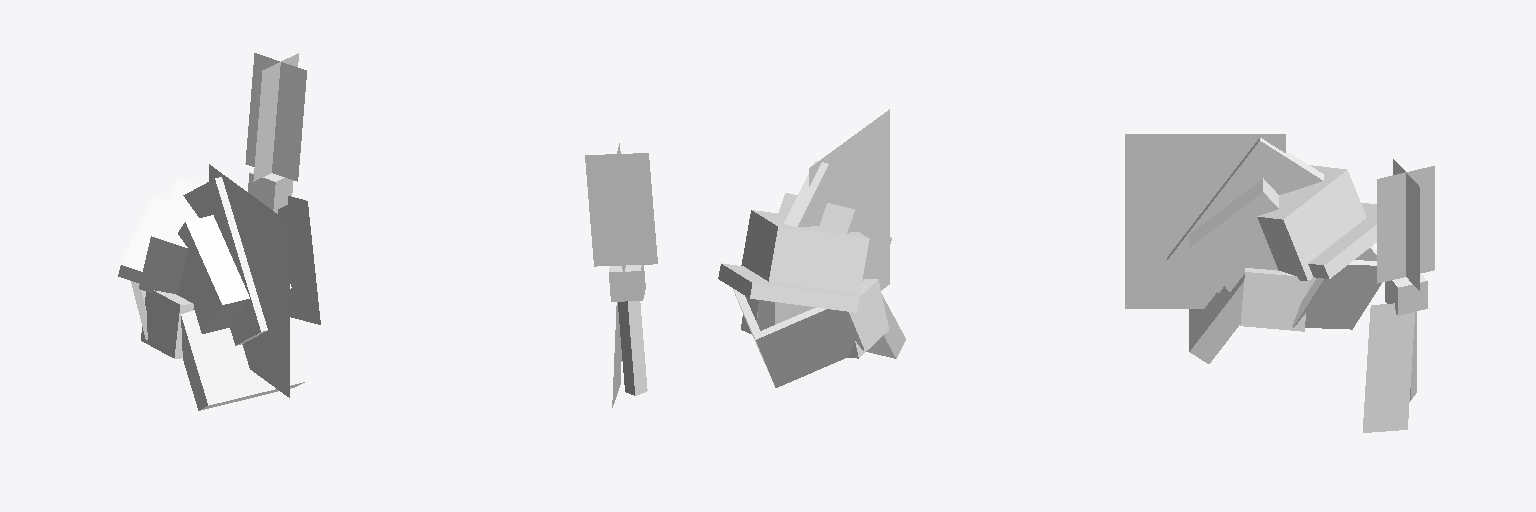
File: mt_object_armor_head.obj
3 views of the same model, side by side, from view 1: azimuth 30°, elevation 25°; view 2: azimuth 150°, elevation 25°; view 3: azimuth 270°, elevation 25° (orthographic).
Visible parts, largest first — view 1: cube.005, cube.003, cube.001, cube.015, cube.008, cube.002, cube.013, cube, cube.014, cube.010, cube.012; view 2: cube.008, cube.014, cube.005, cube.006, cube.001, cube.002, cube.011, cube, cube.010, cube.009, cube.012, cube.004 (+3 smaller); view 3: cube.005, cube.008, cube.013, cube.001, cube.002, cube.015, cube.007, cube.000, cube.003, cube.009, cube.014, cube.012.
Boxes of the visible parts, x1,y1,x2,y2 form: cube.005: [209, 164, 289, 397]; cube.003: [181, 310, 305, 410]; cube.001: [178, 215, 291, 333]; cube.015: [245, 53, 306, 181]; cube.008: [139, 177, 201, 294]; cube.002: [183, 175, 267, 345]; cube.013: [278, 196, 320, 324]; cube: [141, 290, 193, 358]; cube.014: [253, 53, 298, 181]; cube.010: [118, 211, 160, 283]; cube.012: [248, 171, 293, 210]; cube.008: [741, 210, 869, 307]; cube.014: [585, 153, 657, 266]; cube.005: [809, 109, 889, 290]; cube.006: [761, 308, 863, 384]; cube.001: [778, 193, 891, 280]; cube.002: [784, 161, 852, 226]; cube.011: [618, 301, 647, 395]; cube: [848, 279, 888, 358]; cube.010: [770, 282, 858, 312]; cube.009: [718, 263, 774, 301]; cube.012: [609, 265, 645, 301]; cube.004: [757, 300, 815, 330]; cube.005: [1125, 134, 1285, 308]; cube.008: [1257, 165, 1366, 280]; cube.013: [1363, 303, 1414, 432]; cube.001: [1189, 178, 1278, 291]; cube.002: [1167, 138, 1323, 292]; cube.015: [1377, 166, 1434, 283]; cube.007: [1292, 260, 1381, 329]; cube.000: [1240, 268, 1308, 331]; cube.003: [1189, 274, 1244, 363]; cube.009: [1308, 210, 1376, 278]; cube.014: [1393, 159, 1419, 290]; cube.012: [1385, 274, 1427, 315].
Bounding box in the file's own units: 1.01 × 1.1 × 1.21.